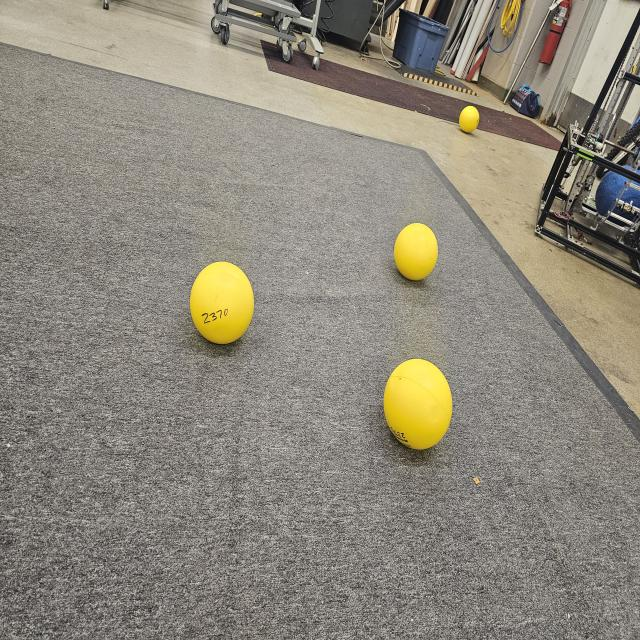Fuel: (384, 358, 451, 449), (192, 262, 255, 346), (395, 223, 437, 280), (461, 107, 479, 131)
